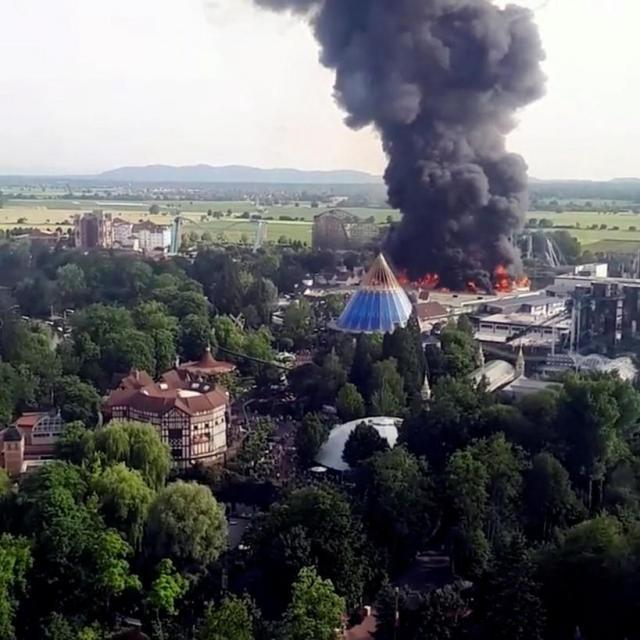Fire: (492, 262, 531, 292), (396, 272, 438, 288)
